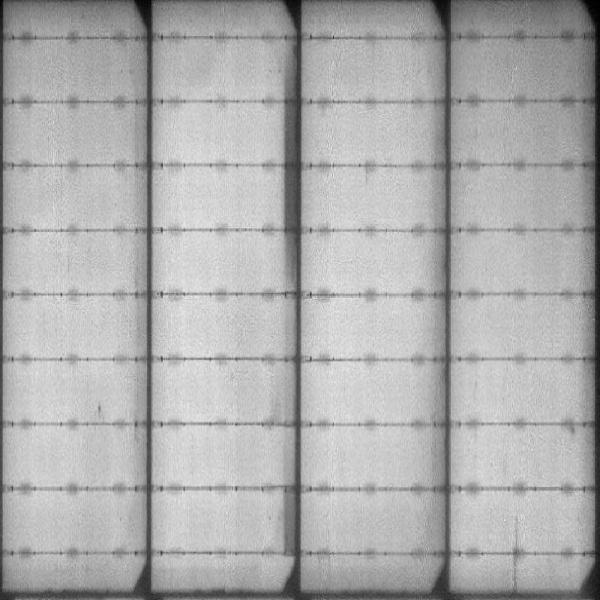black_border: (281, 42, 304, 237), (281, 484, 303, 555)
scratch: (505, 515, 525, 592)
